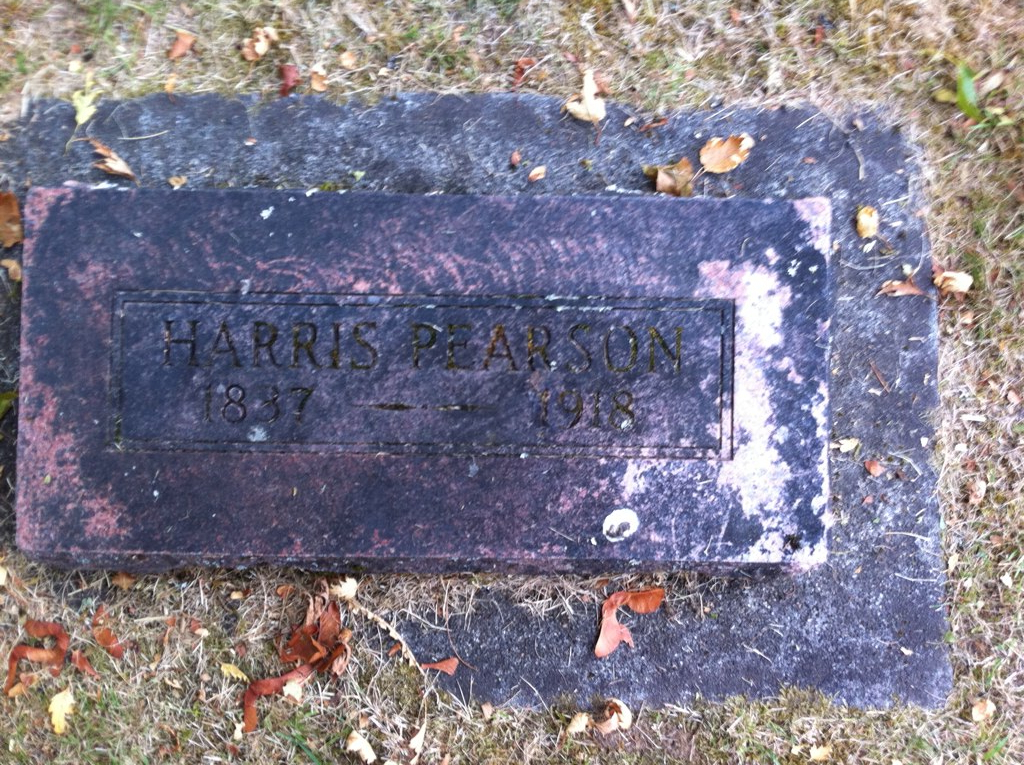flat: (0, 96, 954, 724)
